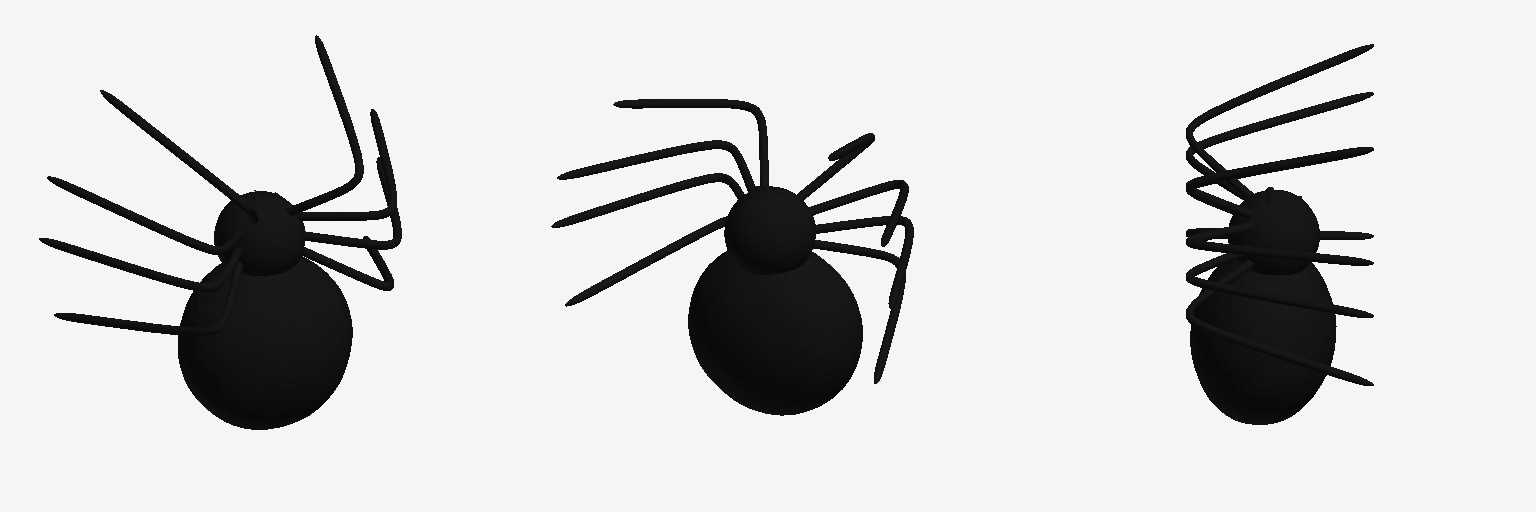
File: SpiderModelUVF1.obj
3 renders of one model, left to right at view 1: azimuth 30°, elevation 25°; view 2: azimuth 150°, elevation 25°; view 3: azimuth 270°, elevation 25°, orthographic.
Parts seen in each view (by area): view 1: SpiderModel_Icosphere; view 2: SpiderModel_Icosphere; view 3: SpiderModel_Icosphere.
Part boxes in pixels (left/top/right/bottom): SpiderModel_Icosphere: left=39, top=35, right=401, bottom=429; SpiderModel_Icosphere: left=551, top=99, right=913, bottom=415; SpiderModel_Icosphere: left=1186, top=44, right=1373, bottom=424.
Size of the model in its own units: 3.79 by 3.42 by 1.82.